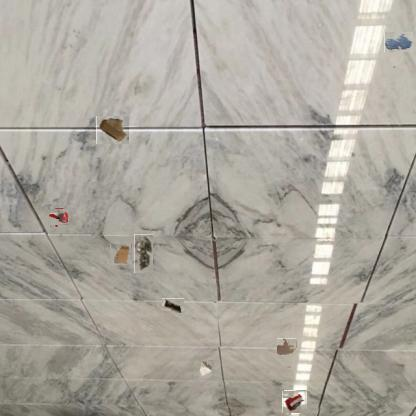dirty: (96, 116, 129, 144), (134, 234, 153, 273), (283, 391, 307, 414), (110, 244, 132, 264), (194, 360, 214, 380), (162, 298, 184, 313), (49, 208, 67, 226)
liquid: (384, 32, 413, 52), (276, 338, 297, 355)
